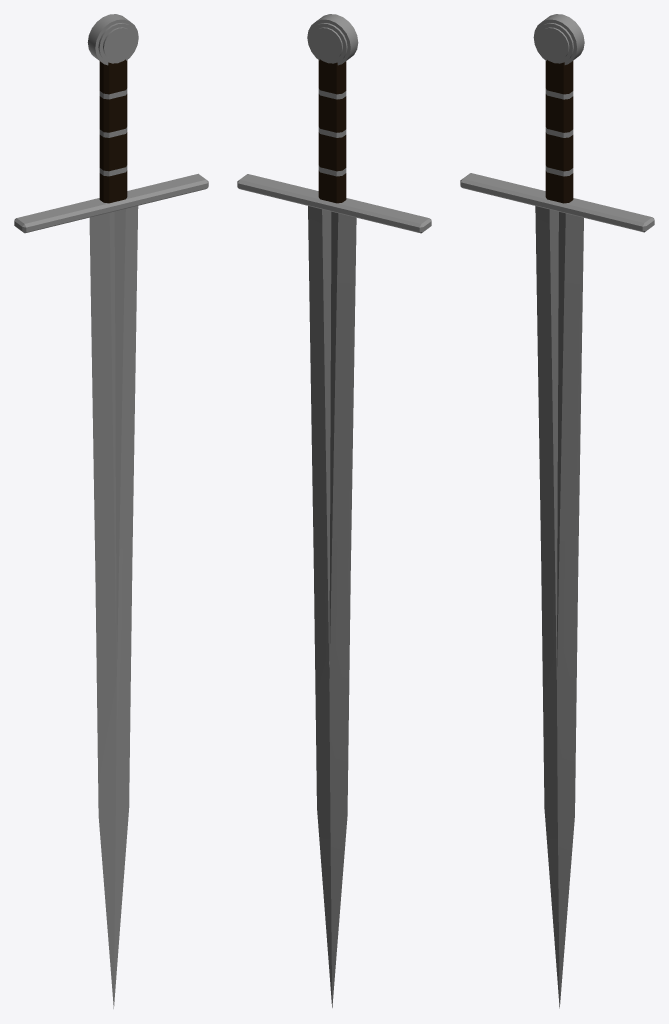
Rendered from S_Sword_Long.fbx.
3 views of the same model, side by side, from view 1: azimuth 30°, elevation 25°; view 2: azimuth 150°, elevation 25°; view 3: azimuth 330°, elevation 25° (orthographic).
Visible parts, largest first — view 1: S_Sword_Long; view 2: S_Sword_Long; view 3: S_Sword_Long.
Boxes of the visible parts, x1,y1,x2,y2 form: S_Sword_Long: [14, 14, 208, 1008]; S_Sword_Long: [237, 14, 431, 1007]; S_Sword_Long: [460, 14, 654, 1008].
Size of the model in its own units: 29.1 by 148 by 3.18.
